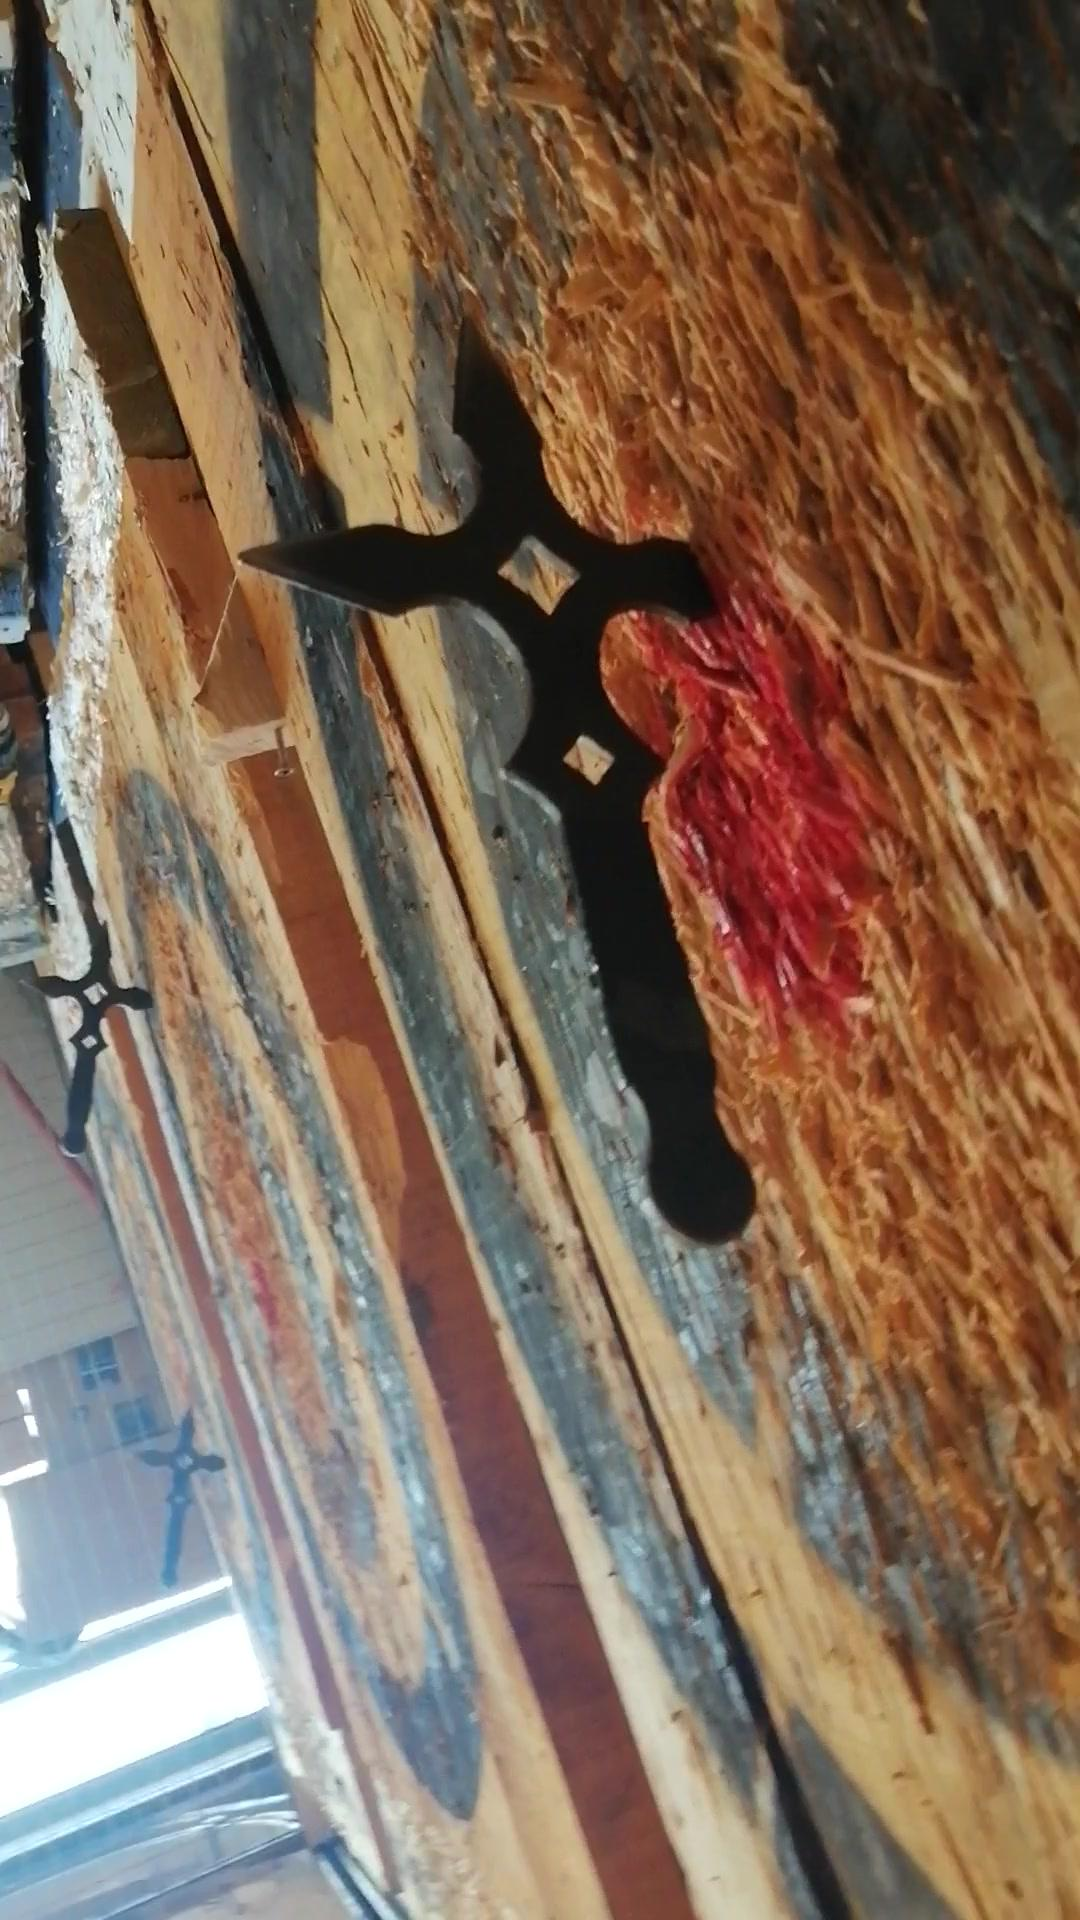Hand Axe: (225, 310, 761, 1244), (26, 923, 164, 1163), (131, 1414, 228, 1593)
